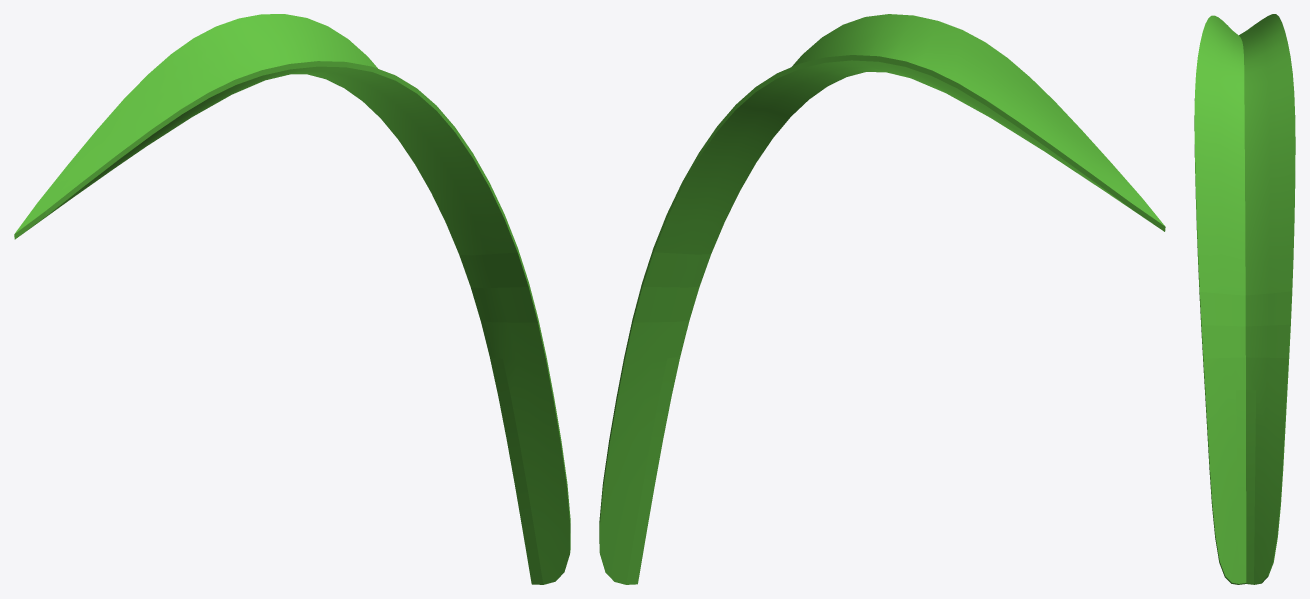
Rendered from rumput-4.fbx.
3 renders of one model, left to right at view 1: azimuth 30°, elevation 25°; view 2: azimuth 150°, elevation 25°; view 3: azimuth 270°, elevation 25°, orthographic. The views are drawn at different scales.
Parts seen in each view (by area): view 1: Plane.002; view 2: Plane.002; view 3: Plane.002.
Boxes of the visible parts, left/top/right/bottom form: Plane.002: left=14, top=14, right=570, bottom=584; Plane.002: left=599, top=14, right=1165, bottom=584; Plane.002: left=1194, top=14, right=1295, bottom=584.
Bounding box in the file's own units: 154 × 166 × 33.38.
